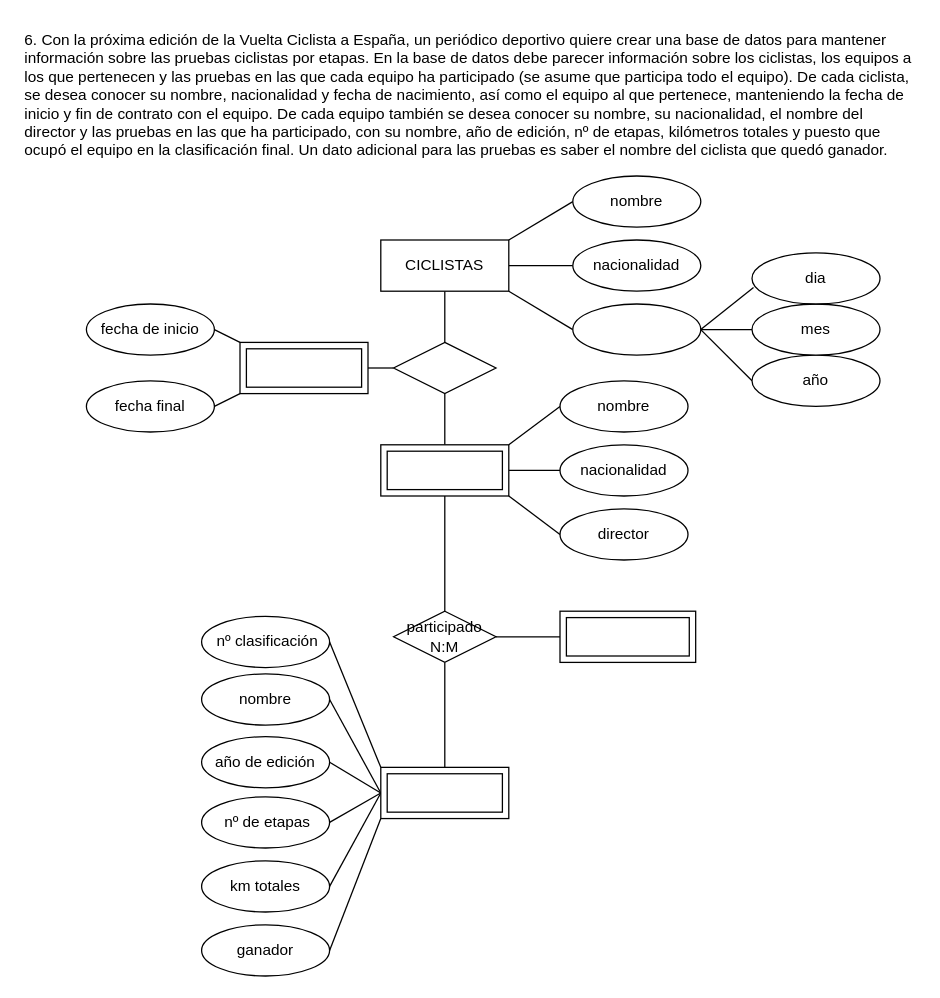
Some shapes in this 940 by 998 pixel diagram are drawn without their labels. The box of each missing label's shape, as (x1, y1, x2, y2) in pixels:
CONTRATO: (239, 341, 368, 394)
EQUIPO: (380, 444, 509, 496)
fecha de nacimiento: (572, 303, 701, 355)
Nº REALIZADO: (559, 610, 696, 662)
pertenece N:1: (392, 341, 496, 394)
PRUEBAS: (380, 766, 509, 819)
